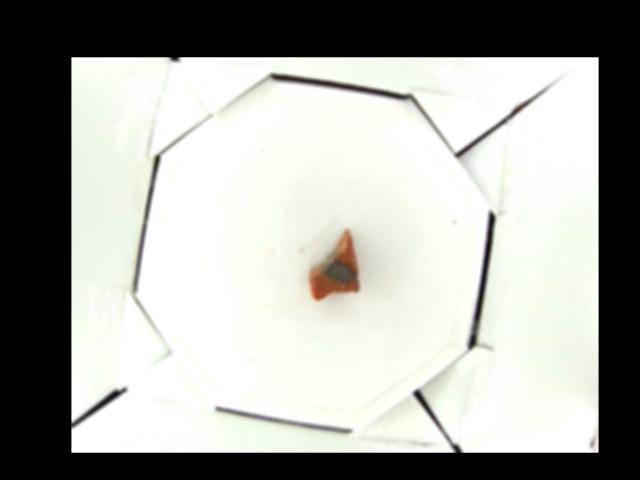Brisk: (309, 228, 360, 301)
